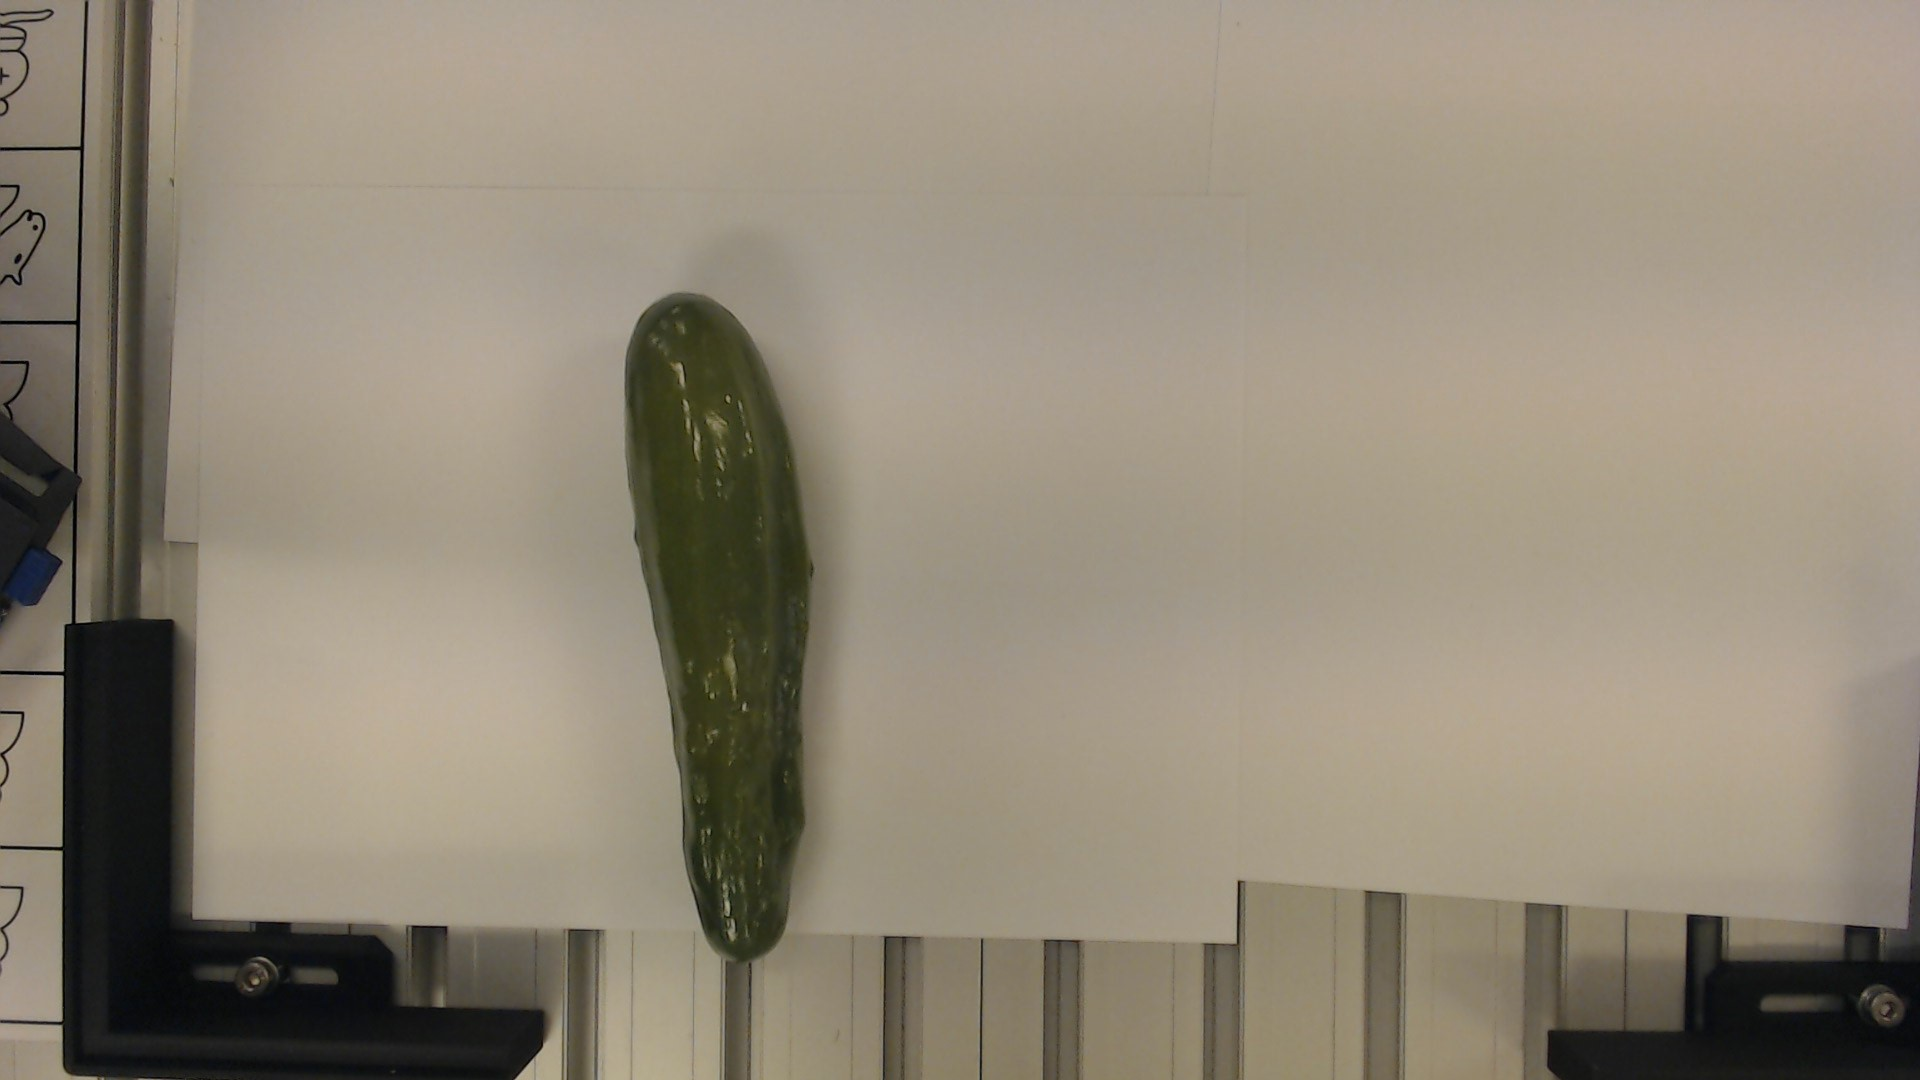Cucumber: (612, 293, 816, 963)
